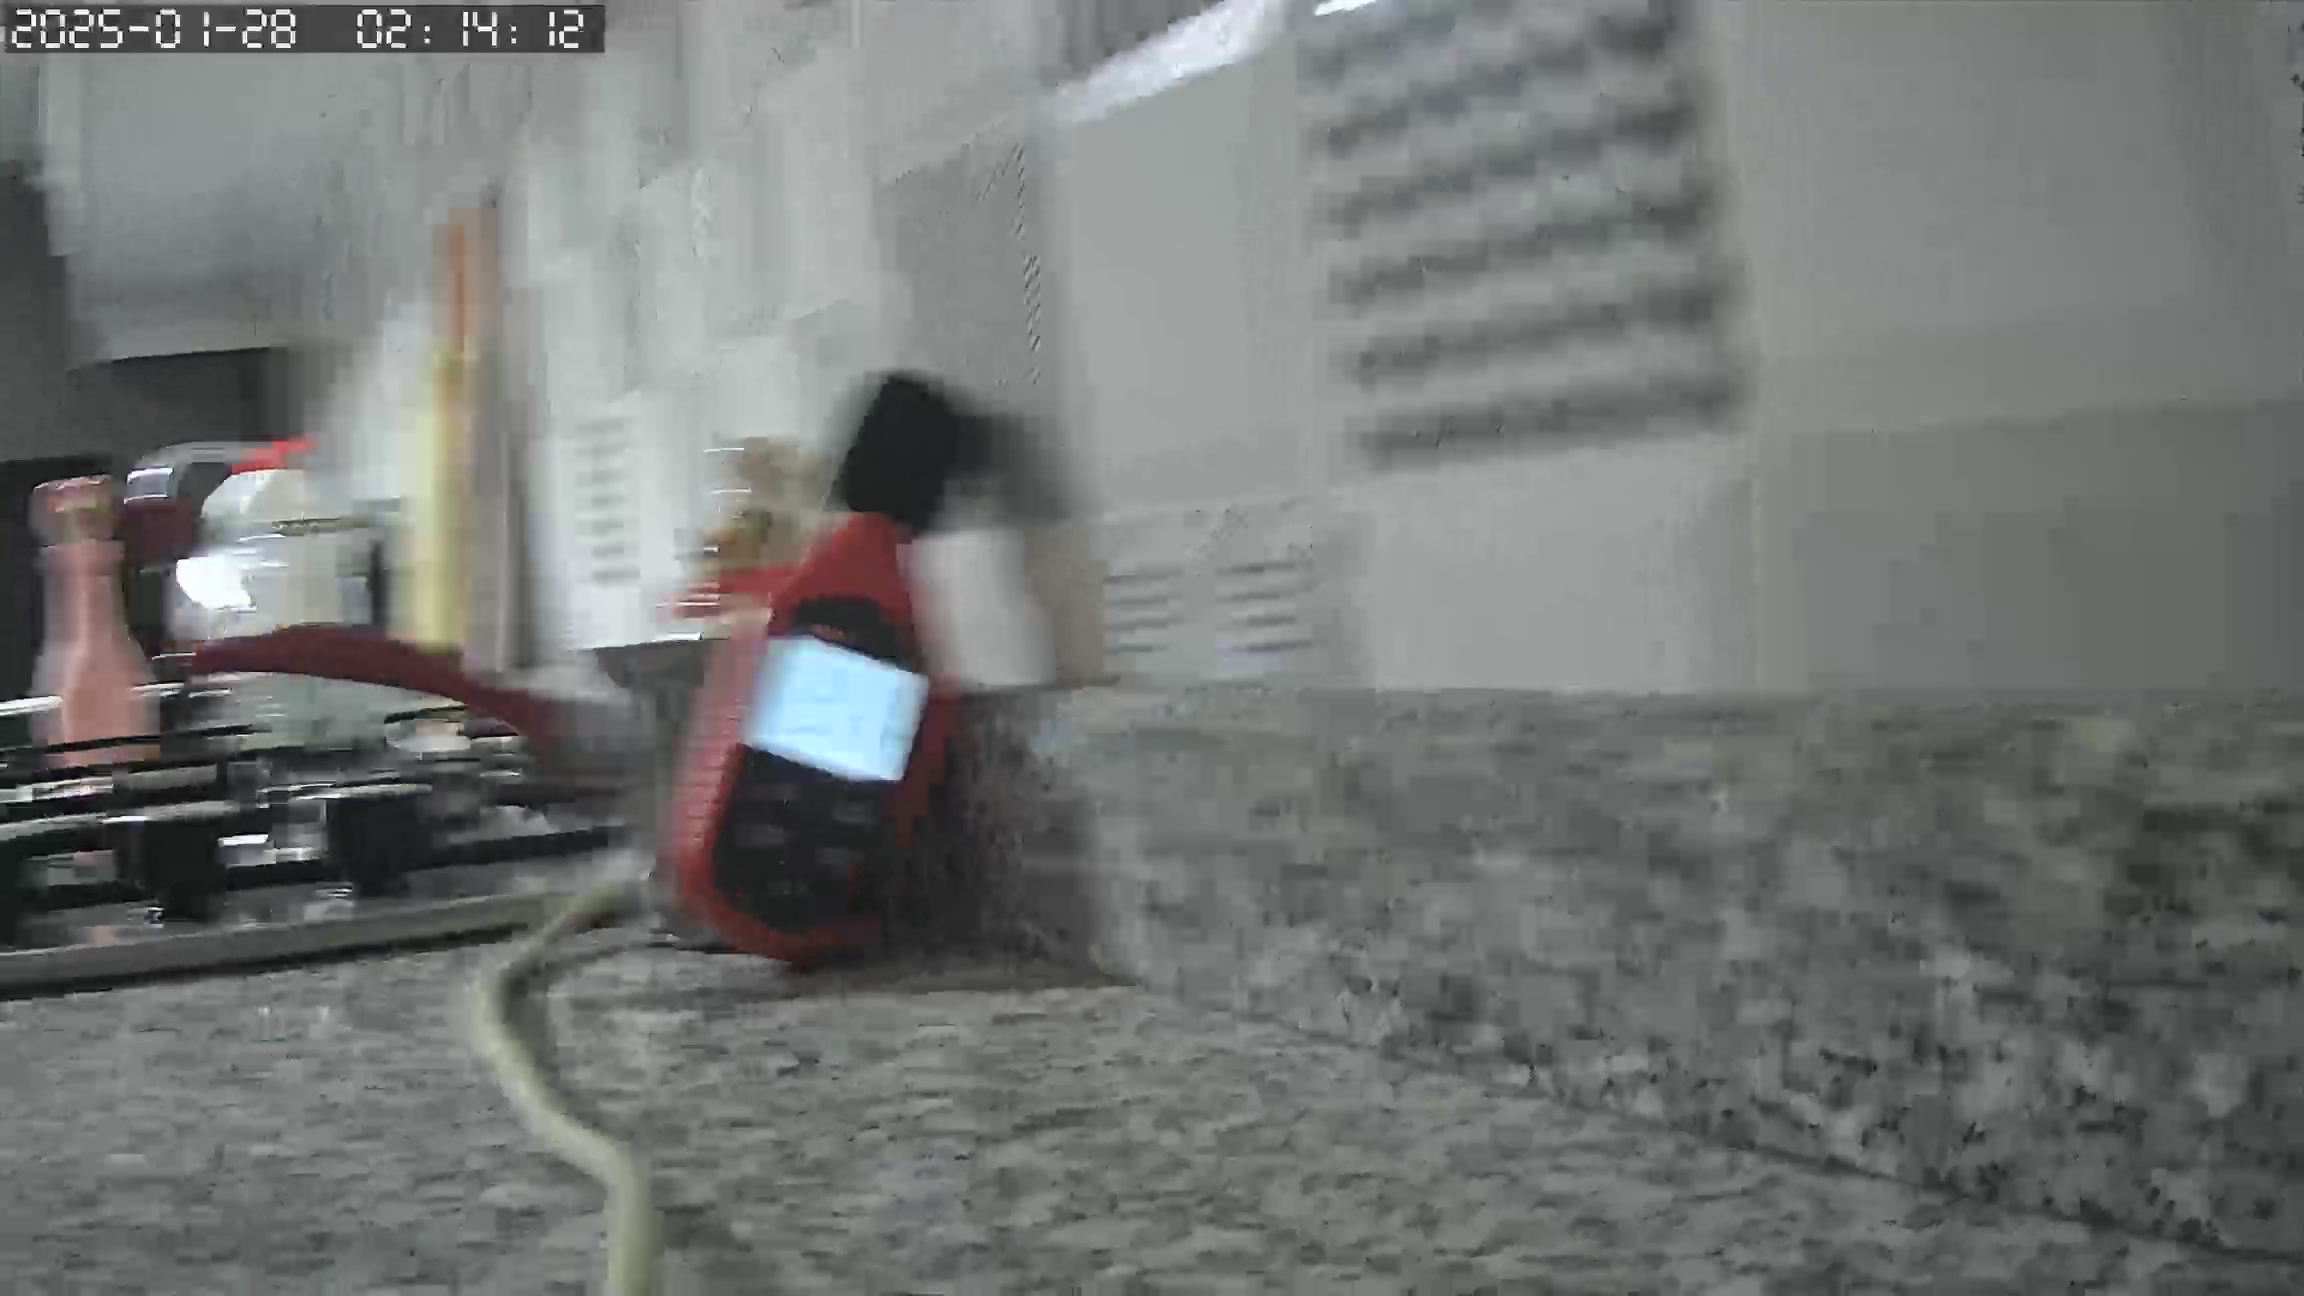screen: (737, 631, 934, 788)
